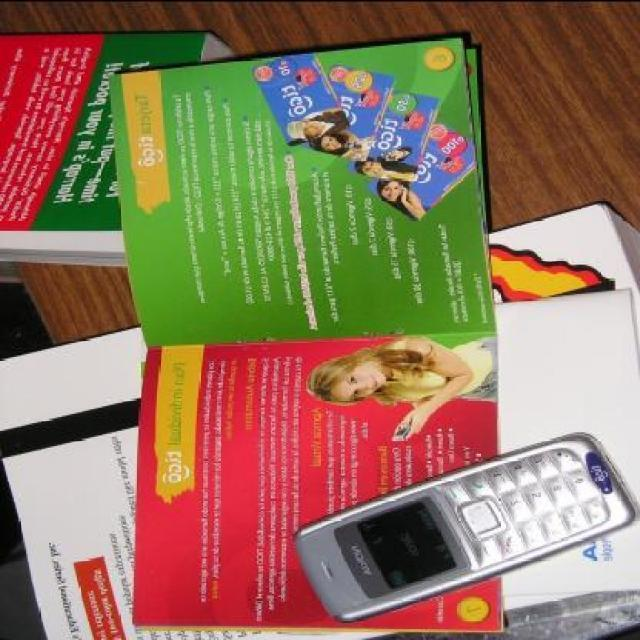phone: (288, 428, 636, 622), (389, 424, 411, 440), (341, 138, 364, 147), (380, 153, 396, 159)
